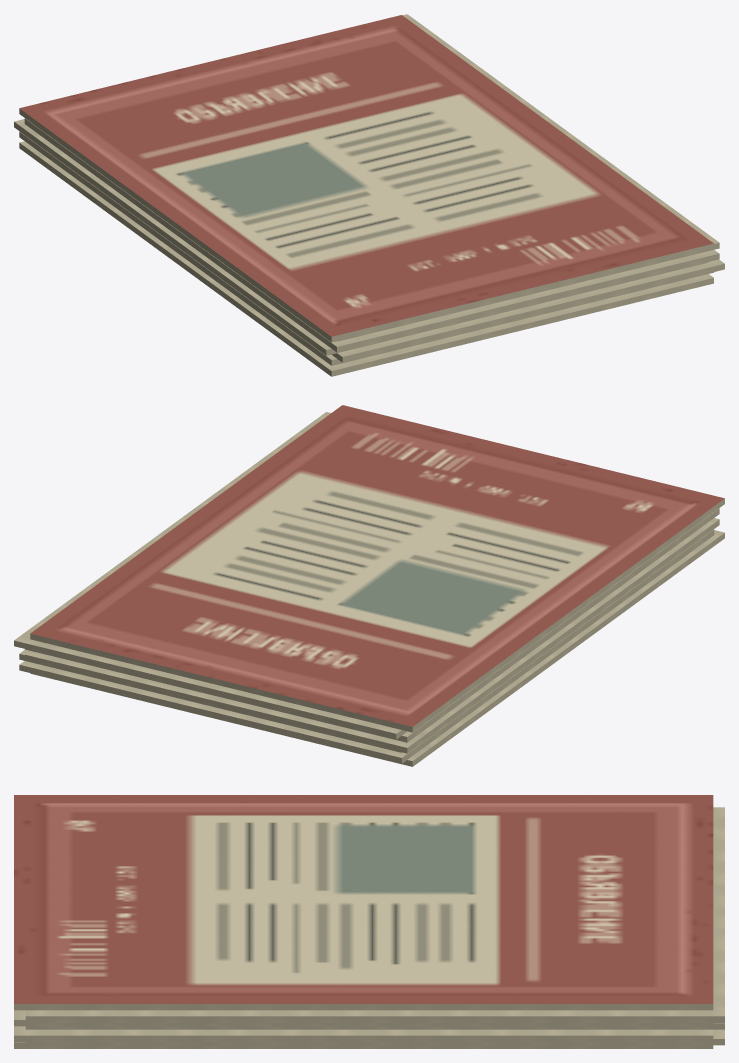
Rendered from MD_122_PaperStack.fbx.
3 renders of one model, top to bottom at view 1: azimuth 30°, elevation 25°; view 2: azimuth 150°, elevation 25°; view 3: azimuth 270°, elevation 25°, orthographic. The views are drawn at different scales.
Visible parts, largest first — view 1: MD_122_PaperStack_paper_sheet.006, MD_122_PaperStack_paper_sheet, MD_122_PaperStack_paper_sheet.004, MD_122_PaperStack_paper_sheet.002, MD_122_PaperStack_paper_sheet.003, MD_122_PaperStack_paper_sheet.001, MD_122_PaperStack_paper_sheet.005; view 2: MD_122_PaperStack_paper_sheet.006, MD_122_PaperStack_paper_sheet.003, MD_122_PaperStack_paper_sheet.001, MD_122_PaperStack_paper_sheet.005, MD_122_PaperStack_paper_sheet, MD_122_PaperStack_paper_sheet.004; view 3: MD_122_PaperStack_paper_sheet.006, MD_122_PaperStack_paper_sheet.005, MD_122_PaperStack_paper_sheet.002, MD_122_PaperStack_paper_sheet.001, MD_122_PaperStack_paper_sheet.004, MD_122_PaperStack_paper_sheet, MD_122_PaperStack_paper_sheet.003.
Boxes of the visible parts, left/top/right/bottom form: MD_122_PaperStack_paper_sheet.006: left=19, top=15, right=713, bottom=342; MD_122_PaperStack_paper_sheet: left=19, top=141, right=713, bottom=376; MD_122_PaperStack_paper_sheet.004: left=24, top=118, right=719, bottom=352; MD_122_PaperStack_paper_sheet.002: left=332, top=259, right=724, bottom=362; MD_122_PaperStack_paper_sheet.003: left=14, top=119, right=708, bottom=355; MD_122_PaperStack_paper_sheet.001: left=19, top=131, right=714, bottom=365; MD_122_PaperStack_paper_sheet.005: left=337, top=14, right=719, bottom=341; MD_122_PaperStack_paper_sheet.006: left=30, top=405, right=724, bottom=732; MD_122_PaperStack_paper_sheet.003: left=25, top=518, right=719, bottom=753; MD_122_PaperStack_paper_sheet.001: left=19, top=529, right=714, bottom=763; MD_122_PaperStack_paper_sheet.005: left=14, top=412, right=407, bottom=739; MD_122_PaperStack_paper_sheet: left=30, top=530, right=724, bottom=766; MD_122_PaperStack_paper_sheet.004: left=25, top=508, right=719, bottom=742; MD_122_PaperStack_paper_sheet.006: left=14, top=795, right=713, bottom=1010; MD_122_PaperStack_paper_sheet.005: left=25, top=807, right=724, bottom=1022; MD_122_PaperStack_paper_sheet.002: left=14, top=1026, right=713, bottom=1041; MD_122_PaperStack_paper_sheet.001: left=25, top=1029, right=724, bottom=1045; MD_122_PaperStack_paper_sheet.004: left=14, top=1010, right=713, bottom=1026; MD_122_PaperStack_paper_sheet: left=14, top=1042, right=713, bottom=1048; MD_122_PaperStack_paper_sheet.003: left=25, top=1023, right=724, bottom=1029.
Size of the model in its own units: 0.216 by 0.021 by 0.302.
2 materials, 2 textured.
